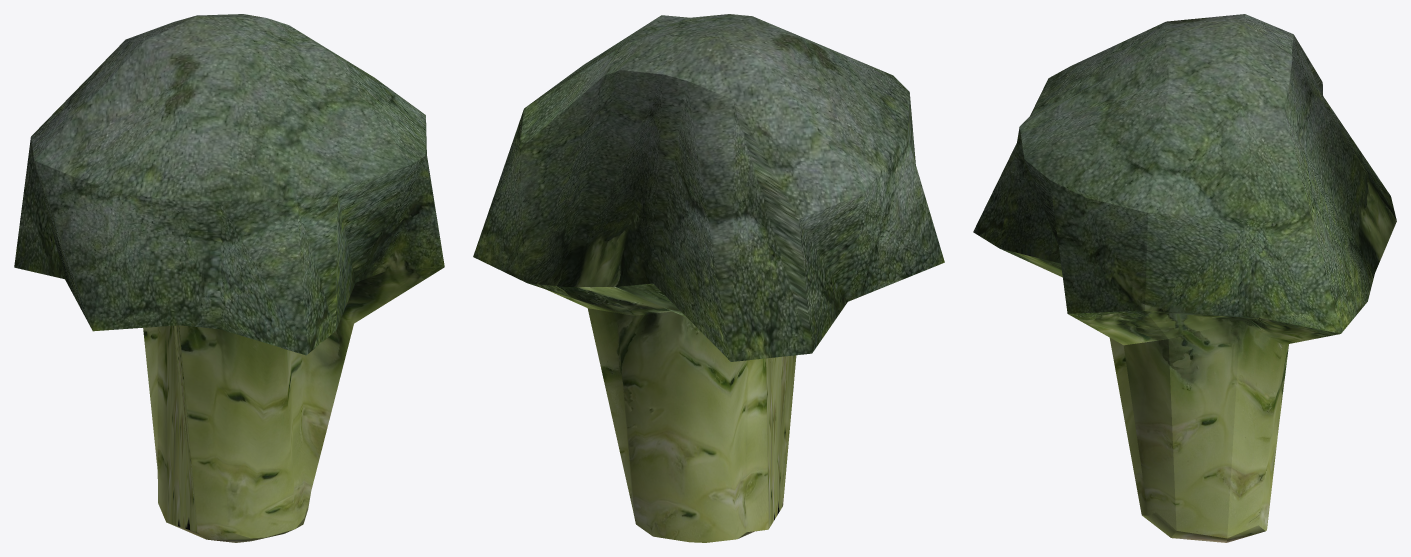
The model's file is brocholi.fbx.
3 renders of one model, left to right at view 1: azimuth 30°, elevation 25°; view 2: azimuth 150°, elevation 25°; view 3: azimuth 270°, elevation 25°, orthographic. The views are drawn at different scales.
Visible parts, largest first — view 1: Broccoli; view 2: Broccoli; view 3: Broccoli.
Boxes of the visible parts, x1=… form: Broccoli: x1=14, y1=14, x2=444, y2=542; Broccoli: x1=473, y1=14, x2=944, y2=542; Broccoli: x1=973, y1=14, x2=1396, y2=542.
Bounding box in the file's own units: 17.87 × 23.81 × 18.81.
